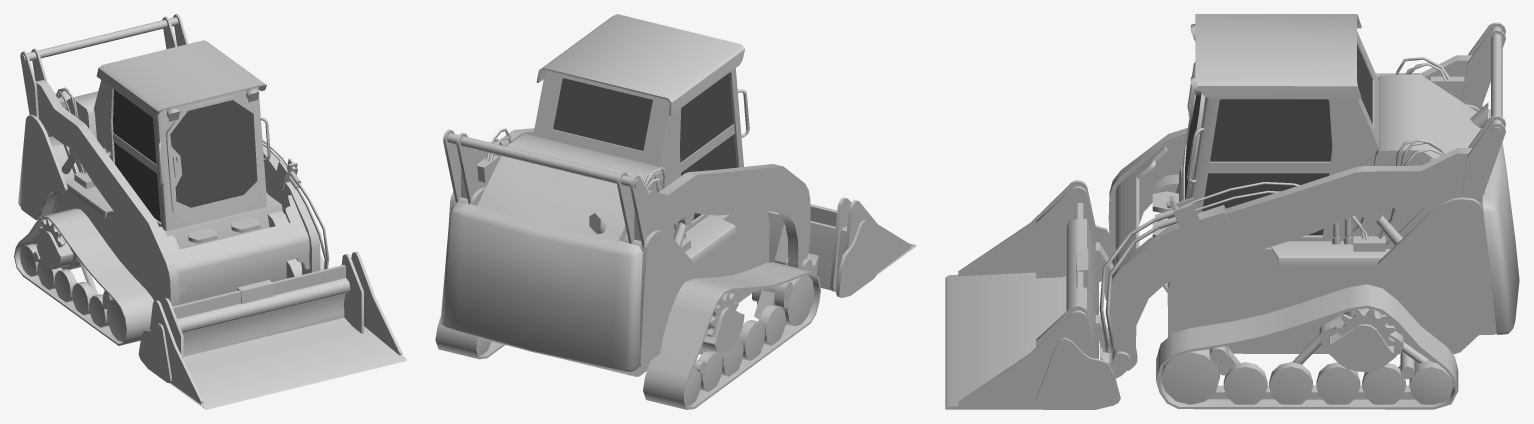
Rendered from Caterpillar_LOD3.FBX.
The picture shows the model from 3 angles, left to right: view 1: azimuth 30°, elevation 25°; view 2: azimuth 150°, elevation 25°; view 3: azimuth 270°, elevation 25°; orthographic projection. The views are drawn at different scales.
Parts seen in each view (by area): view 1: Body_LOD3, Windows_LOD3, Track_LOD3; view 2: Body_LOD3, Track_LOD3, Windows_LOD3; view 3: Body_LOD3, Windows_LOD3, Track_LOD3.
Part boxes in pixels (x1,y1,x2,y2): Body_LOD3: (18, 14, 406, 409); Windows_LOD3: (113, 89, 256, 221); Track_LOD3: (14, 192, 324, 345); Body_LOD3: (440, 14, 916, 405); Track_LOD3: (435, 262, 820, 409); Windows_LOD3: (553, 73, 736, 220); Body_LOD3: (945, 14, 1519, 409); Windows_LOD3: (1185, 44, 1372, 235); Track_LOD3: (1156, 283, 1458, 409).
Size of the model in its own units: 3.17 by 3.26 by 5.72.
